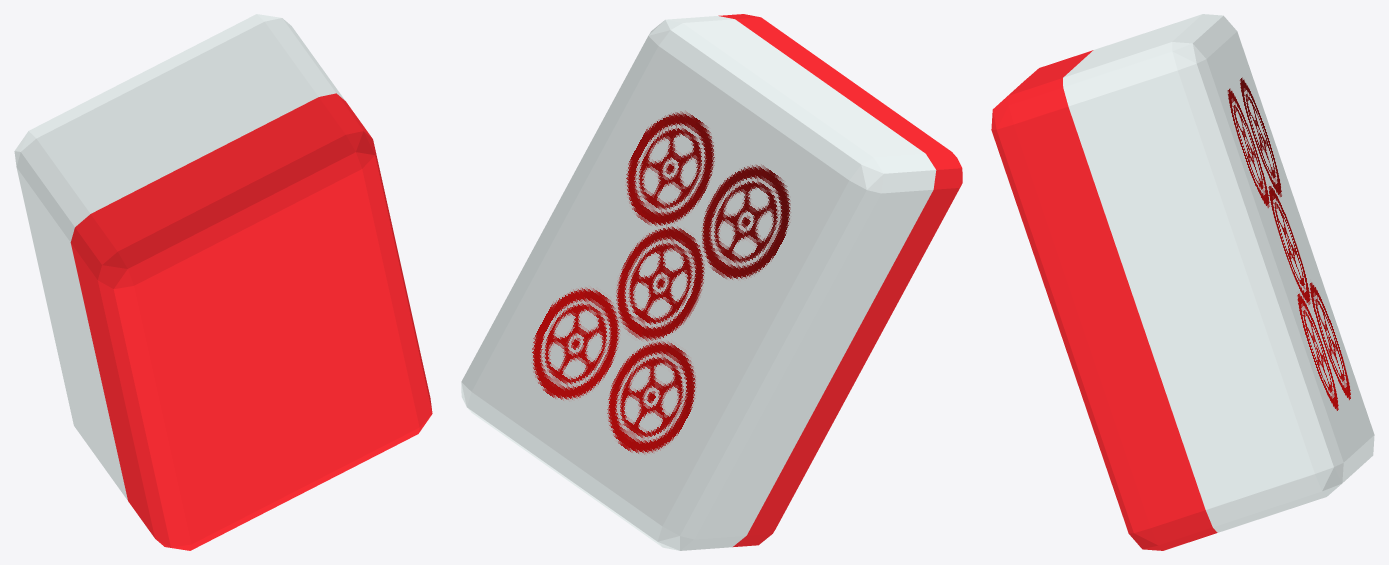
File: ps2_save-icons_mahjonghaoutaikaibattle.glb
The picture shows the model from 3 angles, left to right: view 1: azimuth 30°, elevation 25°; view 2: azimuth 150°, elevation 25°; view 3: azimuth 270°, elevation 25°; orthographic projection. The views are drawn at different scales.
Visible parts, largest first — view 1: system.ico; view 2: system.ico; view 3: system.ico.
Boxes of the visible parts, x1=… form: system.ico: x1=14, y1=14, x2=432, y2=550; system.ico: x1=461, y1=14, x2=962, y2=550; system.ico: x1=991, y1=14, x2=1374, y2=550.
Size of the model in its own units: 3.67 by 4.7 by 3.16.
1 material, 1 textured.
